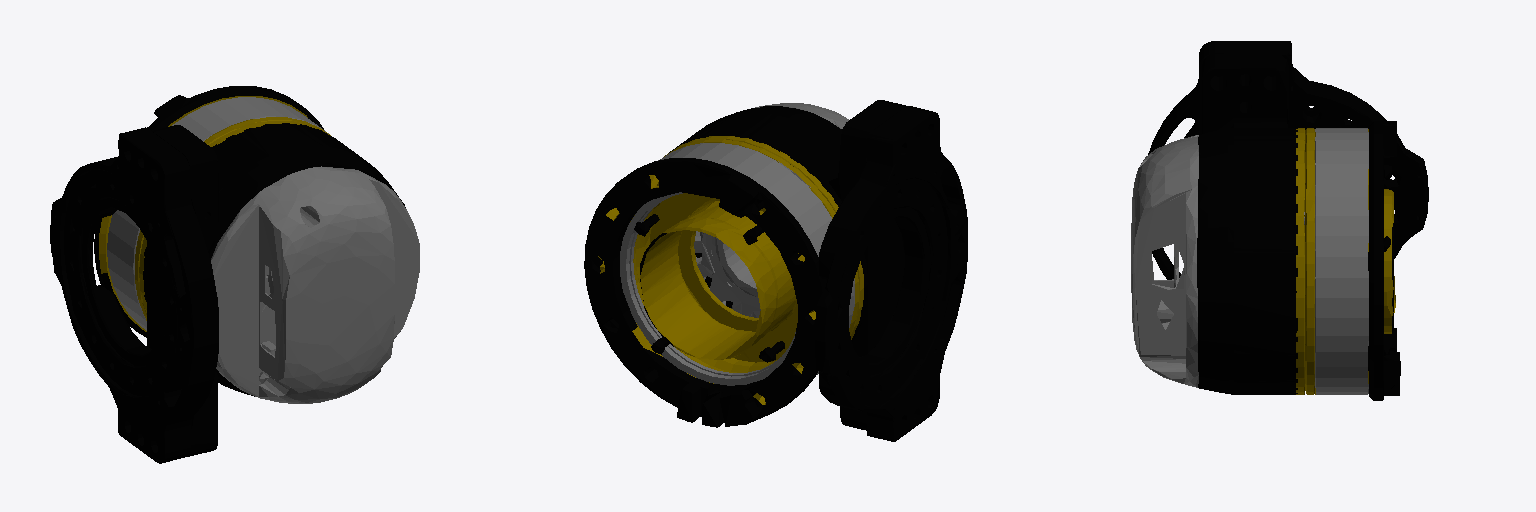
Rendered from left_thigh_roll_link.obj.
3 views of the same model, side by side, from view 1: azimuth 30°, elevation 25°; view 2: azimuth 150°, elevation 25°; view 3: azimuth 270°, elevation 25° (orthographic).
Parts seen in each view (by area): view 1: left_thigh_roll_link; view 2: left_thigh_roll_link; view 3: left_thigh_roll_link.
Boxes of the visible parts, x1,y1,x2,y2 form: left_thigh_roll_link: [50, 86, 419, 463]; left_thigh_roll_link: [584, 100, 967, 441]; left_thigh_roll_link: [1131, 41, 1428, 400].
Bounding box in the file's own units: 0.0915 × 0.1001 × 0.0892.